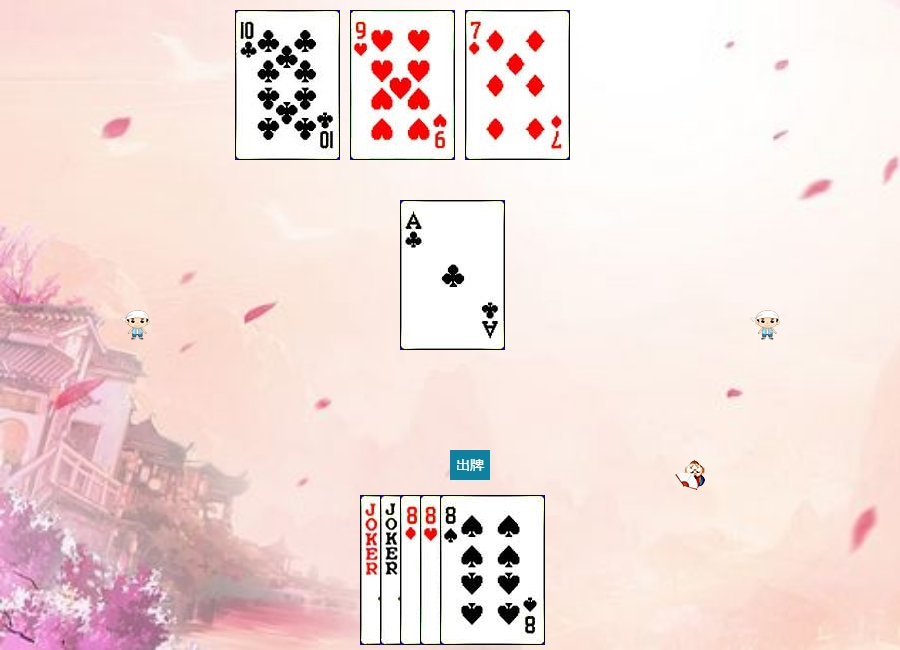10~2: (235, 10, 340, 160)
14~2: (400, 200, 505, 350)
17~3: (380, 495, 485, 645)
18~4: (360, 495, 465, 645)
7~1: (465, 10, 570, 160)
8~1: (400, 495, 505, 645)
8~3: (420, 495, 525, 645)
8~4: (440, 495, 545, 645)
9~3: (350, 10, 455, 160)
